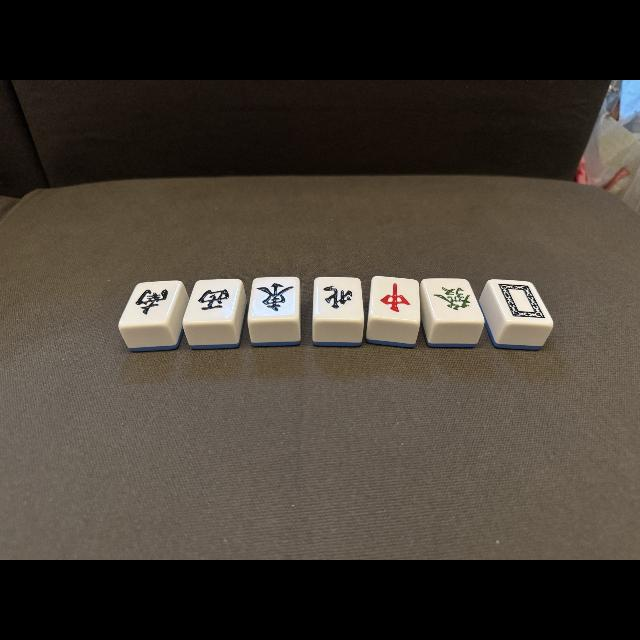dg: (429, 280, 477, 320)
dr: (372, 278, 418, 318)
dw: (498, 282, 546, 322)
we: (252, 278, 298, 318)
wn: (315, 278, 361, 318)
ws: (126, 282, 176, 322)
ww: (188, 280, 238, 322)
